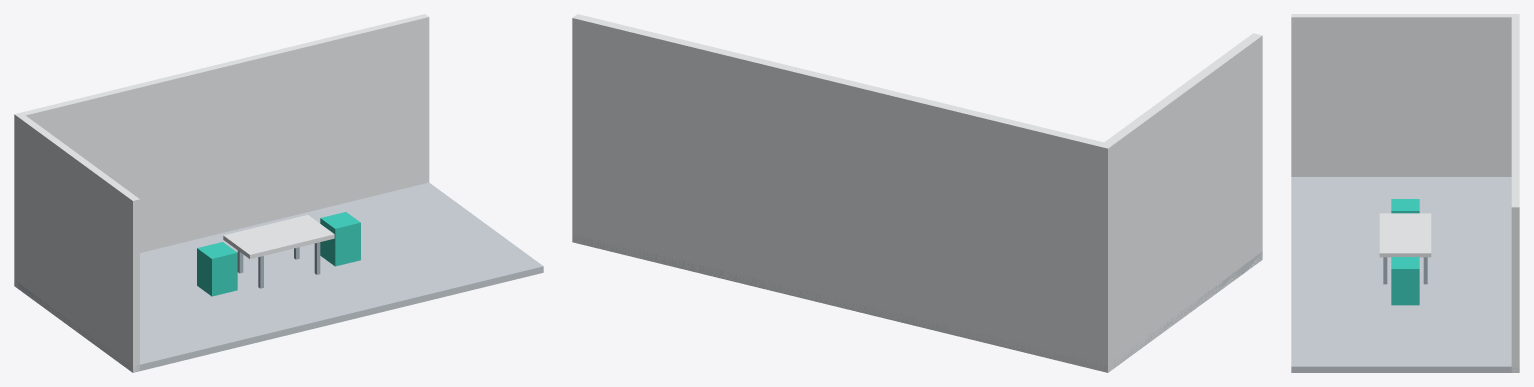
The picture shows the model from 3 angles, left to right: view 1: azimuth 30°, elevation 25°; view 2: azimuth 150°, elevation 25°; view 3: azimuth 270°, elevation 25°; orthographic projection. The views are drawn at different scales.
Parts seen in each view (by area): view 1: Exhibition Booth Concept; view 2: Exhibition Booth Concept; view 3: Exhibition Booth Concept.
Boxes of the visible parts, left/top/right/bottom form: Exhibition Booth Concept: left=14, top=14, right=543, bottom=372; Exhibition Booth Concept: left=572, top=14, right=1262, bottom=372; Exhibition Booth Concept: left=1291, top=14, right=1519, bottom=372.
Bounding box in the file's own units: 8 × 3.2 × 4.
